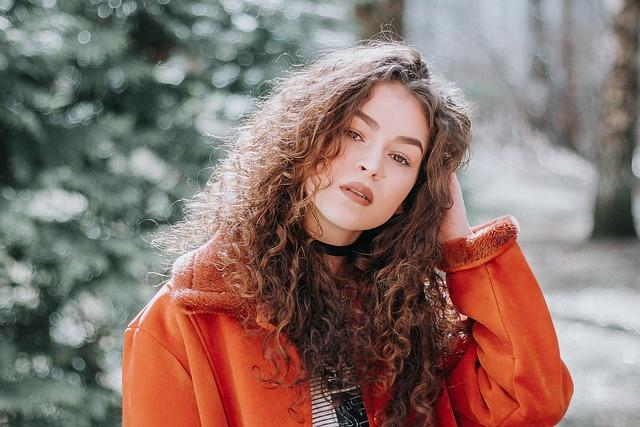Non_Gorille: (92, 0, 589, 427)
